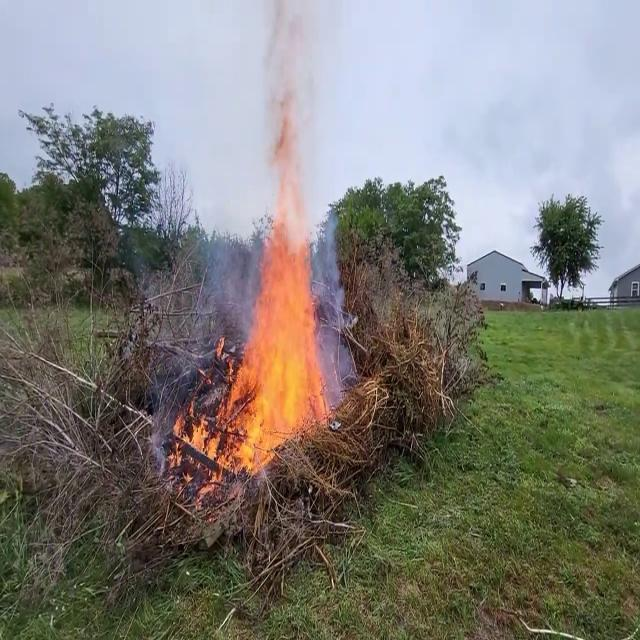Fire: (177, 206, 335, 482)
Smoke: (254, 0, 334, 238), (256, 10, 326, 172)
